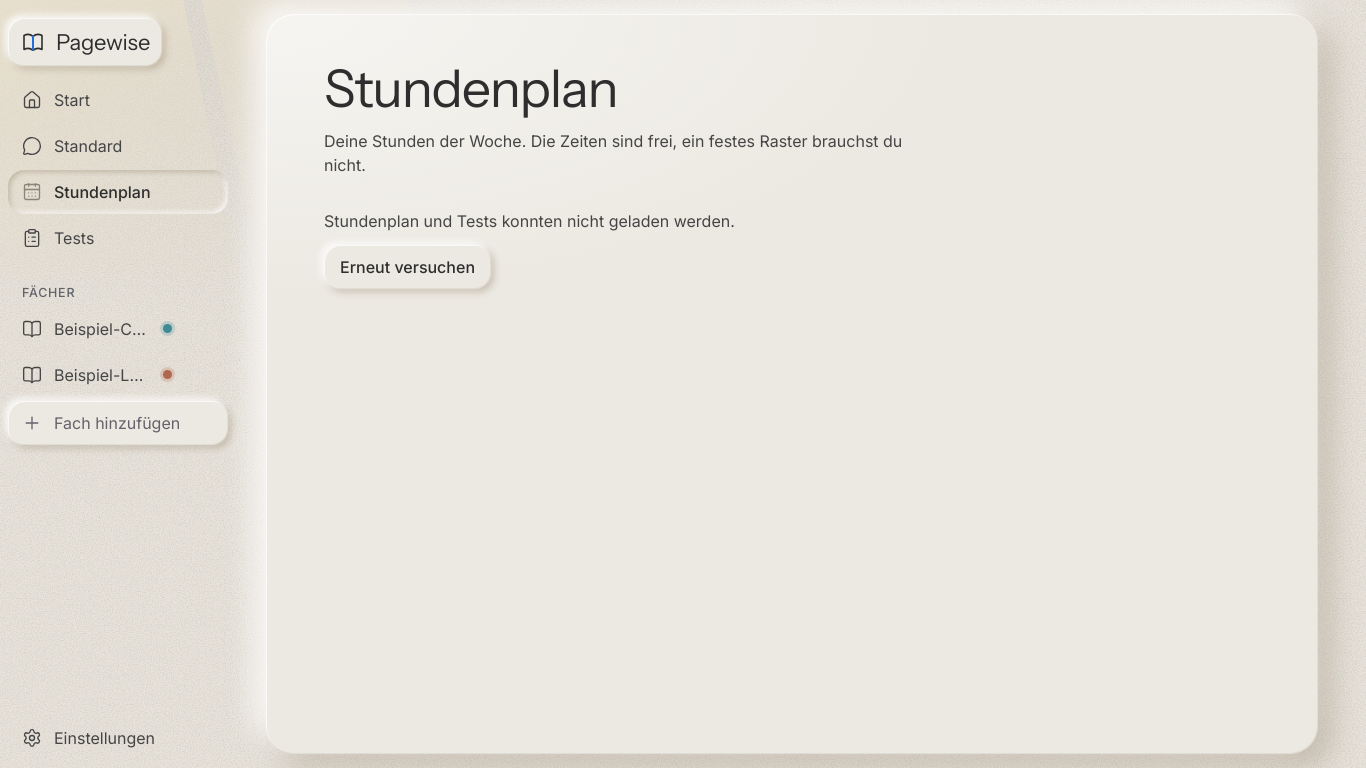
Test: Stundenplan › zeigt Fehler beim Laden mit „Erneut versuchen“
Expected: the text "Stundenplan und Tests konnten nicht geladen werden." is shown, [324,211,735,231]
Click the button "Erneut versuchen" at (408,267), box [324,245,491,289]
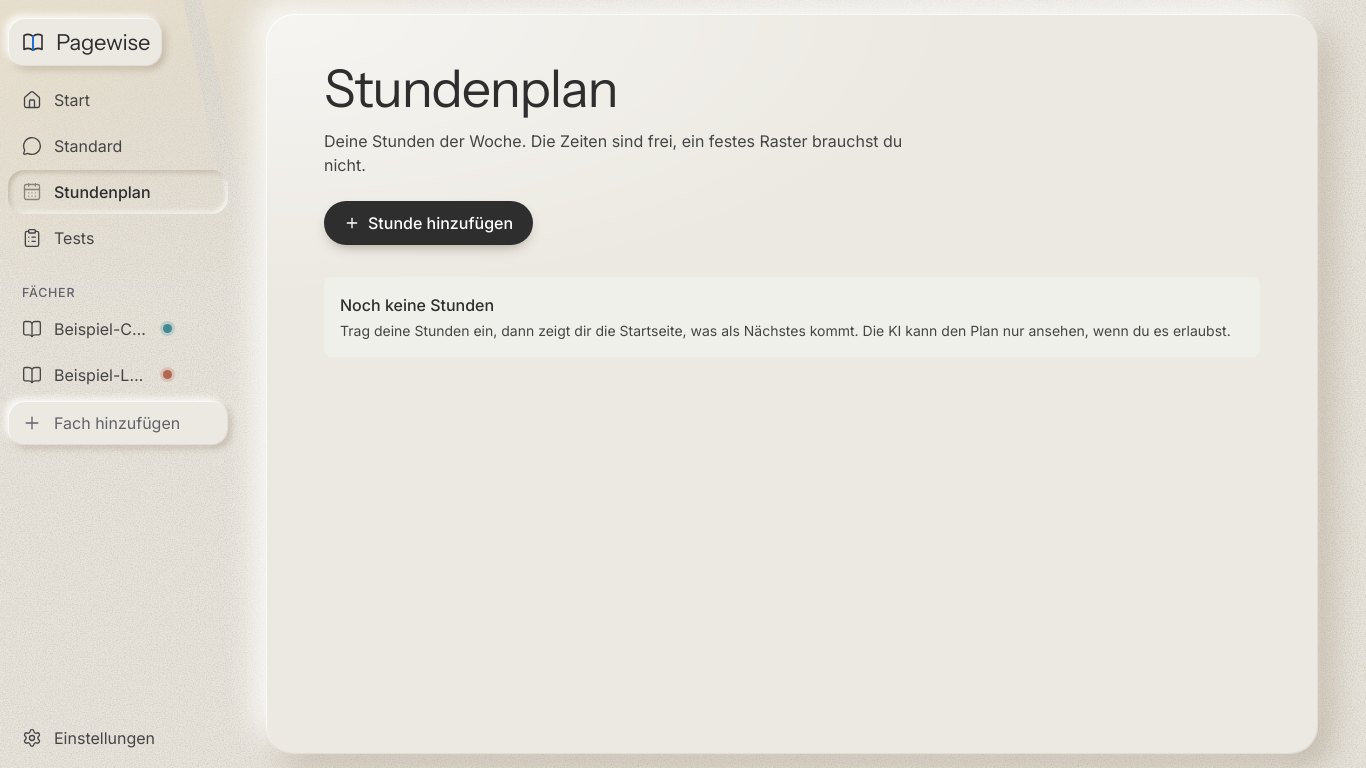
Now the text "Noch keine Stunden" is shown, box [340,295,494,315]
